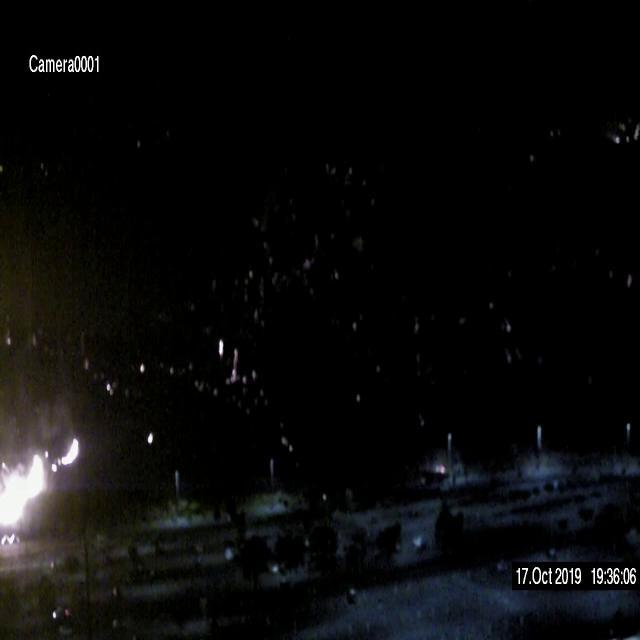Fire: (3, 450, 45, 536), (59, 434, 80, 466)
